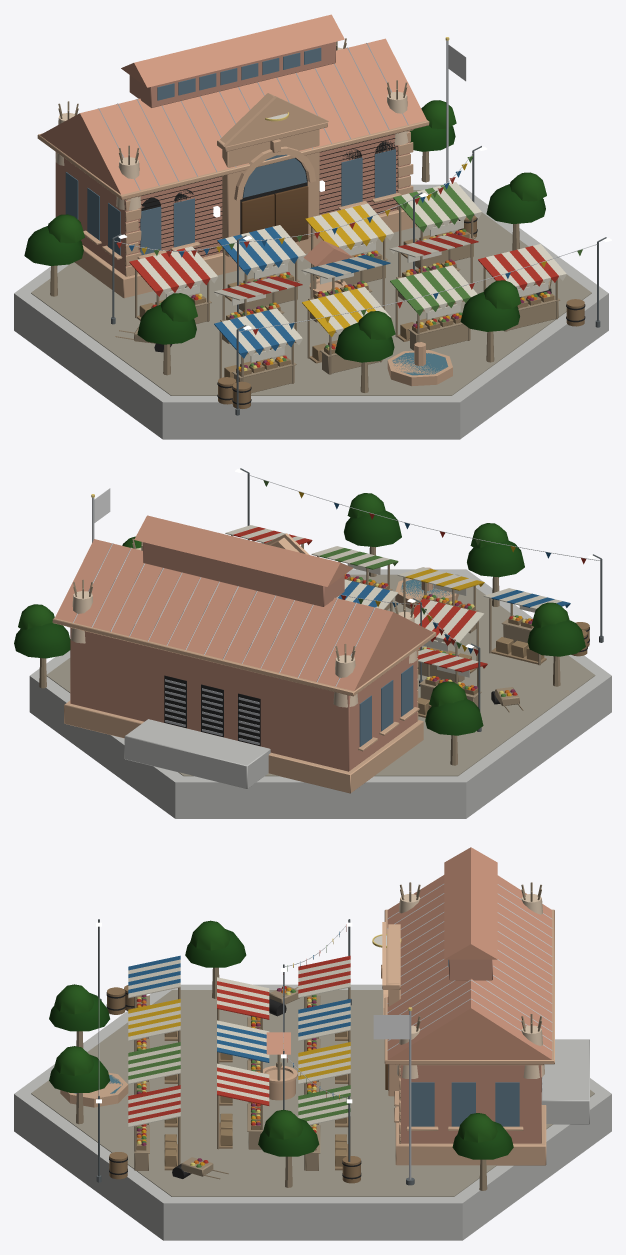
File: market_africa.glb
3 renders of one model, top to bottom at view 1: azimuth 30°, elevation 25°; view 2: azimuth 150°, elevation 25°; view 3: azimuth 270°, elevation 25°, orthographic. The views are drawn at different scales.
Visible parts, largest first — view 1: roof_tile, wall_concrete, paint, pavers, wood, stone, leaf, brick, glass, dark, metal, plaster (+1 smaller); view 2: roof_tile, wall_concrete, brick, pavers, leaf, paint, stone, wood, metal, dark, glass, plaster (+1 smaller); view 3: pavers, wall_concrete, roof_tile, paint, leaf, wood, stone, brick, metal, glass, plaster, steel_dark (+2 smaller).
Part boxes in pixels (left/top/right/bottom): roof_tile: left=40, top=14, right=426, bottom=266; wall_concrete: left=14, top=184, right=608, bottom=439; paint: left=116, top=113, right=582, bottom=371; pavers: left=31, top=190, right=591, bottom=395; wood: left=50, top=38, right=584, bottom=408; stone: left=37, top=93, right=452, bottom=386; leaf: left=24, top=100, right=546, bottom=362; brick: left=55, top=42, right=409, bottom=275; glass: left=65, top=47, right=448, bottom=375; dark: left=125, top=134, right=585, bottom=404; metal: left=98, top=40, right=597, bottom=331; plaster: left=55, top=47, right=408, bottom=210; roof_tile: left=55, top=515, right=433, bottom=690; wall_concrete: left=29, top=569, right=611, bottom=818; brick: left=70, top=542, right=417, bottom=771; pavers: left=46, top=574, right=595, bottom=776; leaf: left=14, top=493, right=585, bottom=735; paint: left=225, top=480, right=586, bottom=696; stone: left=52, top=533, right=458, bottom=793; wood: left=39, top=535, right=589, bottom=765; metal: left=73, top=475, right=599, bottom=744; dark: left=164, top=627, right=589, bottom=746; glass: left=359, top=579, right=452, bottom=746; plaster: left=71, top=547, right=417, bottom=707; pavers: left=31, top=990, right=594, bottom=1196; wall_concrete: left=14, top=984, right=611, bottom=1240; roof_tile: left=266, top=847, right=551, bottom=1059; paint: left=128, top=924, right=386, bottom=1167; leaf: left=49, top=920, right=513, bottom=1159; wood: left=76, top=882, right=541, bottom=1190; stone: left=60, top=909, right=554, bottom=1165; brick: left=400, top=959, right=541, bottom=1143; metal: left=98, top=884, right=552, bottom=1179; glass: left=74, top=959, right=519, bottom=1126; plaster: left=397, top=894, right=544, bottom=1078; steel_dark: left=96, top=919, right=414, bottom=1185.
Bounding box in the file's own units: 21.41 × 10.7 × 24.6.
